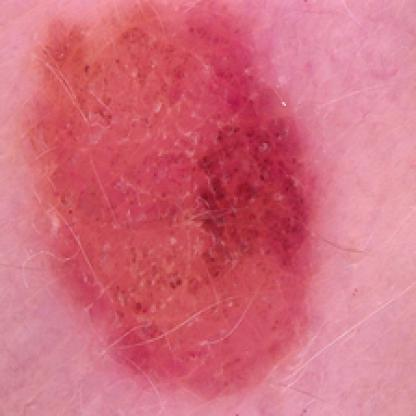benign: (37, 13, 333, 368)
